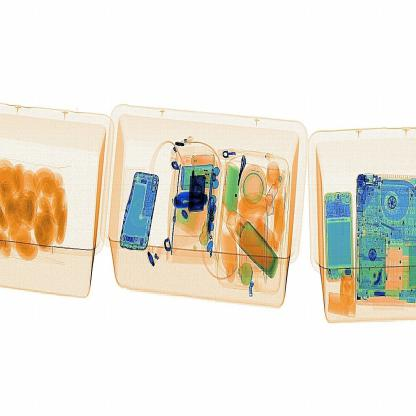scissors: (171, 190, 207, 212)
